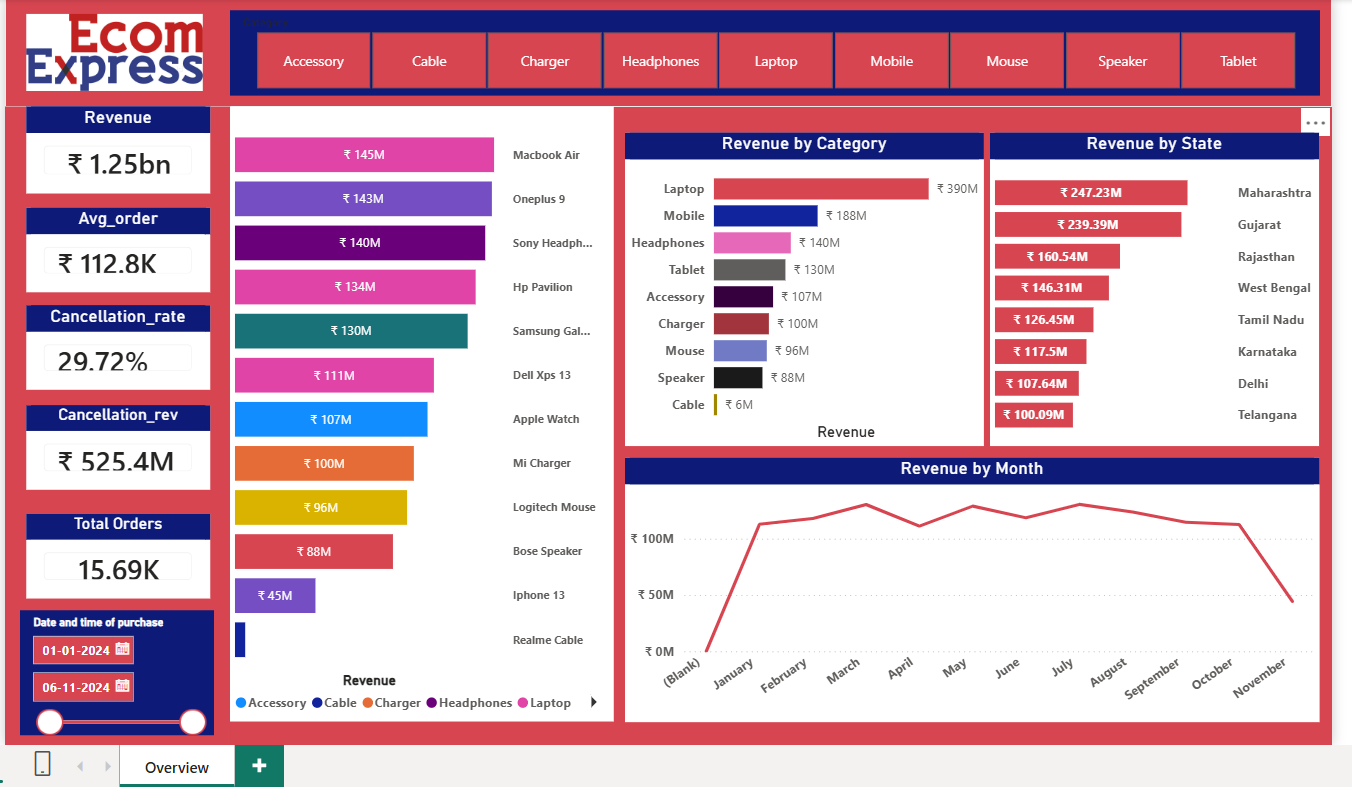

This screenshot's page, from the dashboard's own definition file:
{"tool":"powerbi","page":{"name":"Overview","canvas":[1280,720],"ordinal":0},"visuals":[{"type":"shape","box":[0,0,1280,103.8],"z":0},{"type":"shape","box":[0,103.8,217.5,616.2],"z":1000},{"type":"barChart","fields":{"Y":["table.Revenue"],"Category":["Products.Product Name"],"Series":["Products.Category"]},"box":[217.2,103.8,370.4,593.6],"z":2000},{"type":"barChart","fields":{"Category":["Products.Category"],"Y":["table.Revenue"]},"box":[598.8,128.8,346.2,302.5],"z":3000},{"type":"barChart","fields":{"Category":["Customers.State"],"Y":["table.Revenue"]},"box":[951.2,128.8,317.5,302.5],"z":4000},{"type":"lineChart","fields":{"Y":["table.Revenue"],"Category":["Orders.Delivery time.Variation.Date Hierarchy.Month"]},"box":[598.8,442.5,670,255],"z":5000},{"type":"slicer","fields":{"Values":["Products.Category"]},"box":[217.2,10.9,1052,82],"z":6000},{"type":"cardVisual","title":"Revenue","fields":{"Data":["table.Revenue"]},"box":[20,103.8,177.5,83.8],"z":7000},{"type":"cardVisual","title":"Avg_order","fields":{"Data":["table.avg_order"]},"box":[20,201.2,177.5,81.2],"z":8000},{"type":"cardVisual","title":"Cancellation_rate","fields":{"Data":["table.cancellation_rate"]},"box":[20,295,177.5,81.2],"z":9000},{"type":"cardVisual","title":"Cancellation_rev","fields":{"Data":["table.cancellation_rev"]},"box":[20,392.5,177.5,81.2],"z":10000},{"type":"cardVisual","title":"Total Orders","fields":{"Data":["CountNonNull(Orders.OrderID)"]},"box":[20,497.5,177.5,81.2],"z":11000},{"type":"slicer","fields":{"Values":["Orders.Date and time of purchase"]},"box":[15,590,187.5,120],"z":12000},{"type":"image","box":[20.5,0,170.1,103.8],"z":13000}]}

Visuals, with their boxes in screenshot pixels (x1, y1, x2, y2):
shape: detection(0, 0, 1333, 101)
shape: detection(0, 101, 227, 743)
barChart - table.Revenue x Products.Product Name: detection(226, 101, 612, 719)
barChart - Products.Category x table.Revenue: detection(624, 127, 984, 442)
barChart - Customers.State x table.Revenue: detection(991, 127, 1322, 442)
lineChart - table.Revenue x Orders.Delivery time.Variation.Date Hierarchy.Month: detection(624, 454, 1322, 720)
slicer - Products.Category: detection(226, 4, 1322, 90)
"Revenue" cardVisual: detection(21, 101, 206, 188)
"Avg_order" cardVisual: detection(21, 203, 206, 287)
"Cancellation_rate" cardVisual: detection(21, 300, 206, 385)
"Cancellation_rev" cardVisual: detection(21, 402, 206, 486)
"Total Orders" cardVisual: detection(21, 511, 206, 596)
slicer - Orders.Date and time of purchase: detection(16, 608, 211, 733)
image: detection(21, 0, 199, 101)
